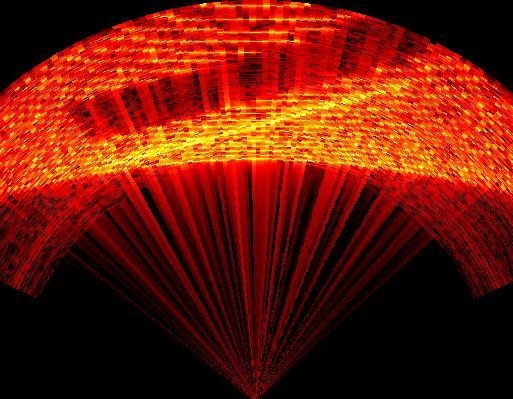pipe: (69, 22, 428, 146)
